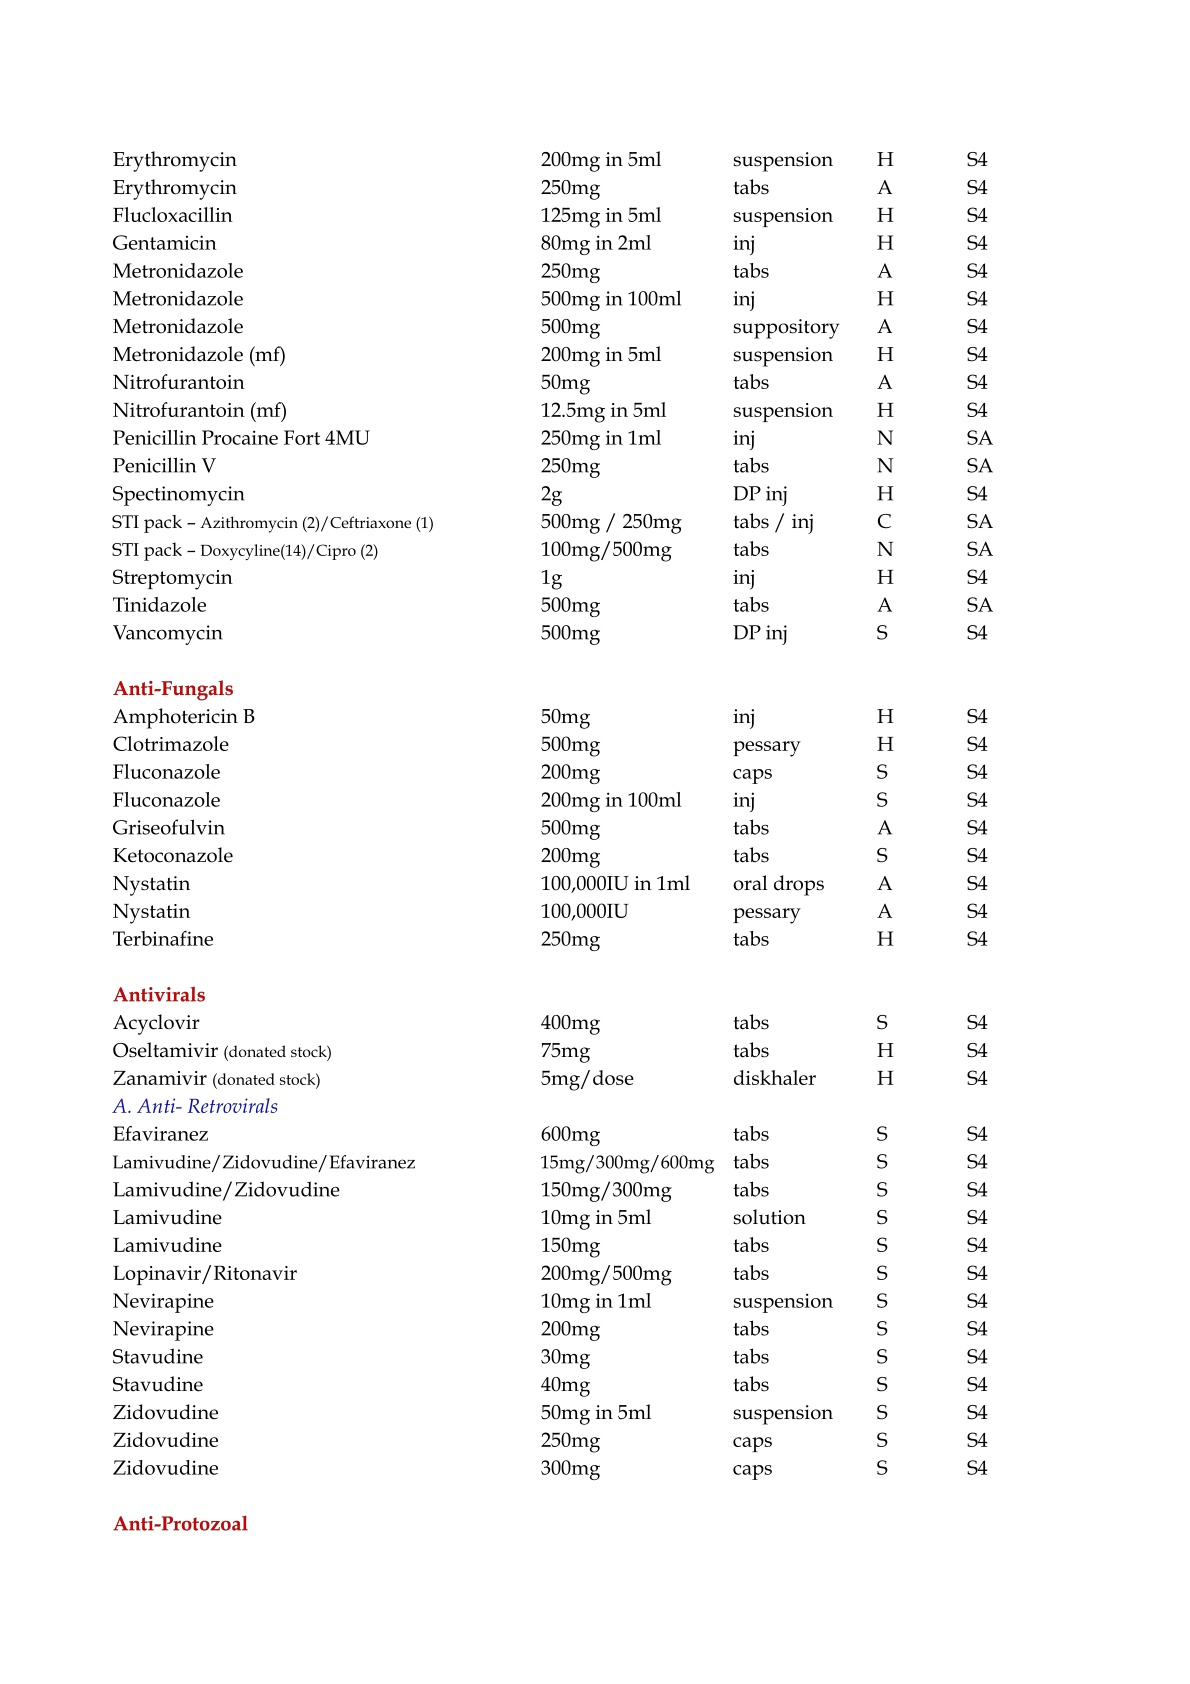nolines: (109, 147, 994, 646), (107, 1013, 990, 1481), (107, 706, 992, 951)
